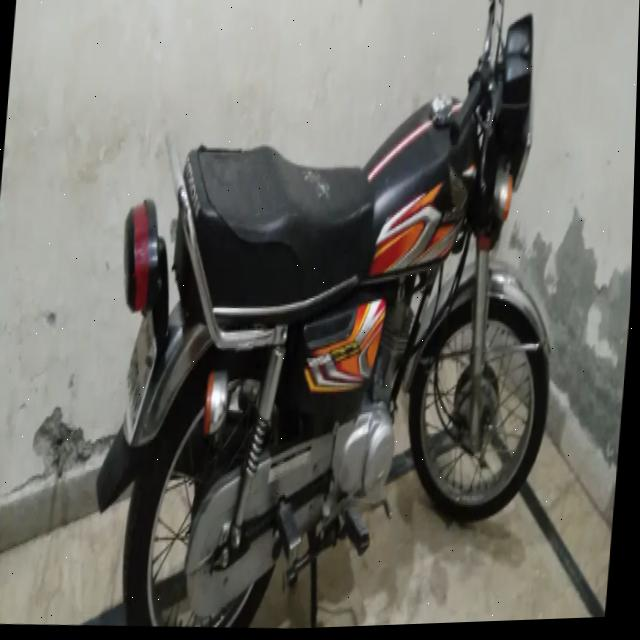Bike: (95, 0, 577, 637)
